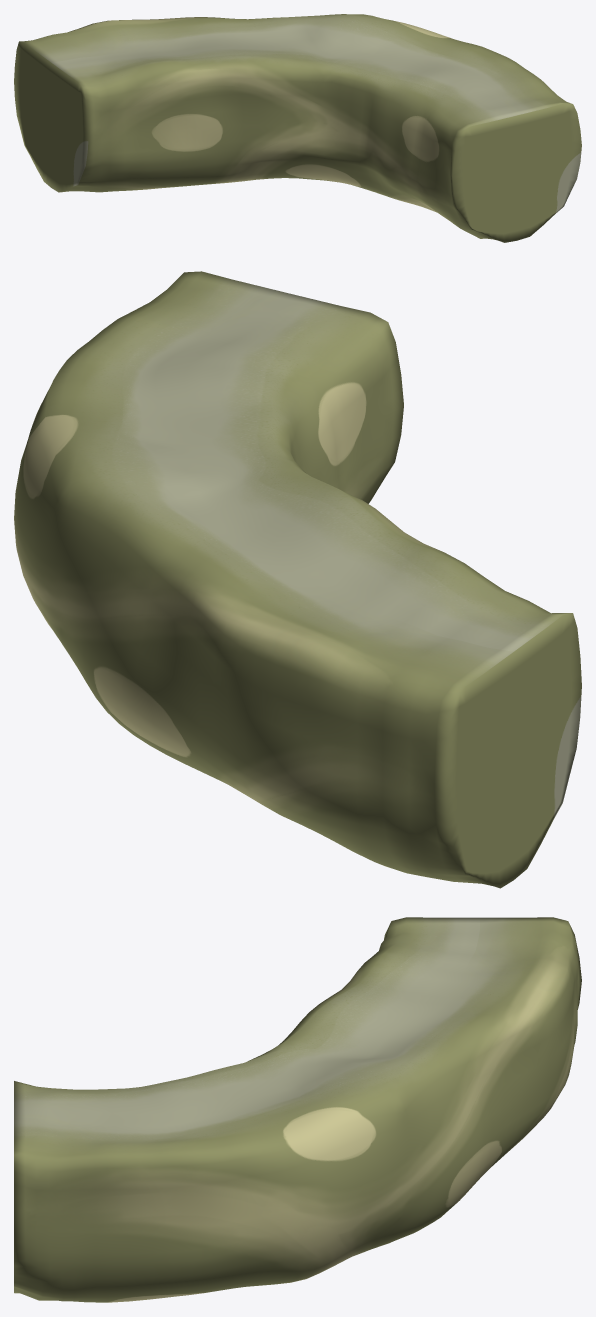
File: StarPathCurve.fbx
The picture shows the model from 3 angles, top to bottom: view 1: azimuth 30°, elevation 25°; view 2: azimuth 150°, elevation 25°; view 3: azimuth 270°, elevation 25°; orthographic projection. The views are drawn at different scales.
Visible parts, largest first — view 1: StarPathCurve; view 2: StarPathCurve; view 3: StarPathCurve.
Part boxes in pixels (left/top/right/bottom): StarPathCurve: left=14, top=14, right=581, bottom=242; StarPathCurve: left=14, top=271, right=581, bottom=888; StarPathCurve: left=14, top=917, right=581, bottom=1302.
Size of the model in its own units: 609 by 226 by 609.
Materials: 1 (1 with a texture image).
